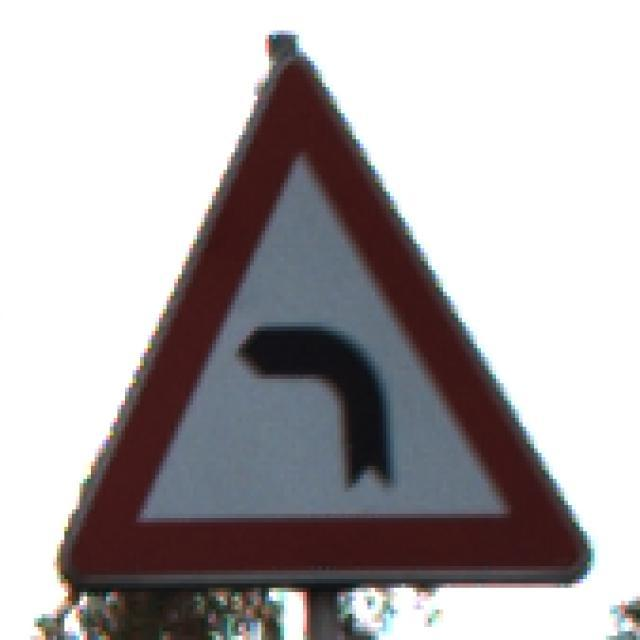left hand curve: (51, 25, 597, 604)
